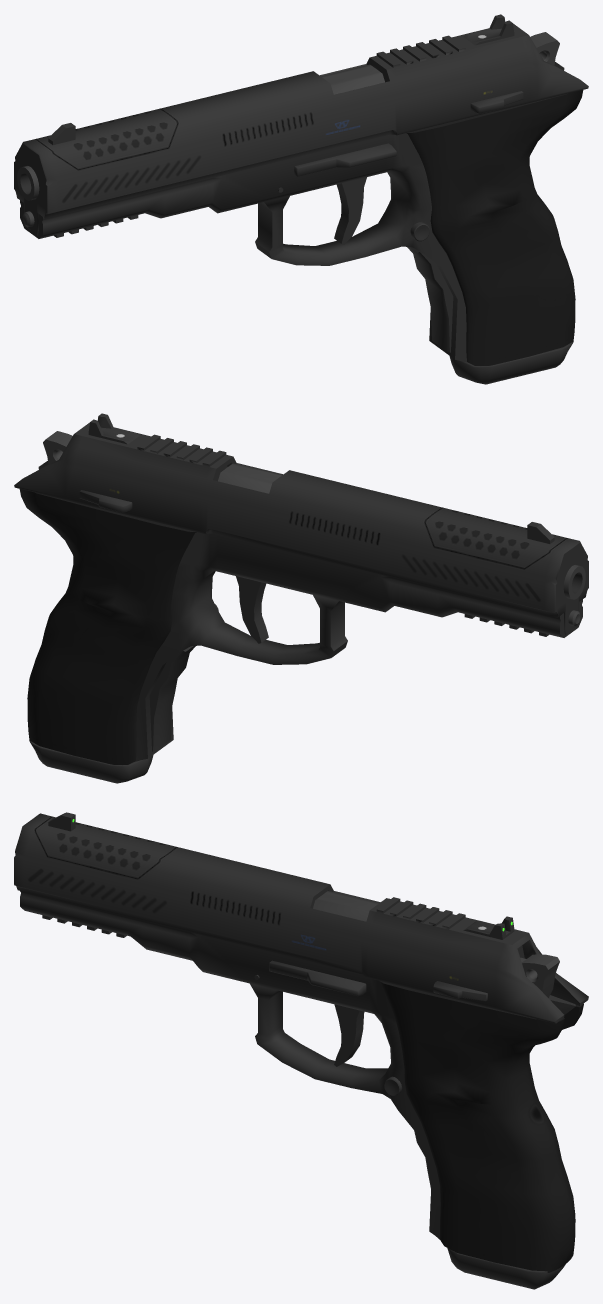
File: gun.glb
3 views of the same model, one above another, from view 1: azimuth 30°, elevation 25°; view 2: azimuth 150°, elevation 25°; view 3: azimuth 330°, elevation 25° (orthographic).
Parts seen in each view (by area): view 1: Body_Pistol_0, Magazine_Pistol_0; view 2: Body_Pistol_0, Magazine_Pistol_0; view 3: Body_Pistol_0, Magazine_Pistol_0.
Boxes of the visible parts, left/top/right/bottom form: Body_Pistol_0: left=14, top=14, right=588, bottom=366; Magazine_Pistol_0: left=449, top=342, right=572, bottom=384; Body_Pistol_0: left=14, top=413, right=588, bottom=765; Magazine_Pistol_0: left=30, top=741, right=153, bottom=783; Body_Pistol_0: left=14, top=812, right=588, bottom=1272; Magazine_Pistol_0: left=447, top=1248, right=565, bottom=1289.
Size of the model in its own units: 21.63 by 13.23 by 3.17.
2 materials, 1 textured.
